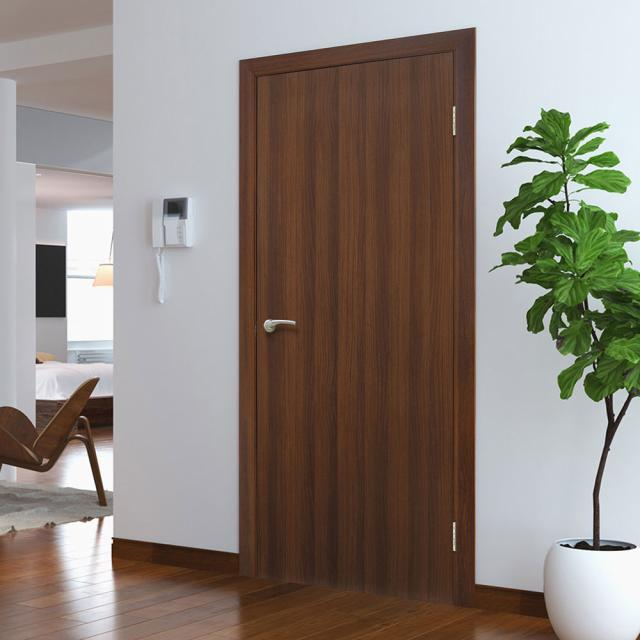close: (247, 68, 470, 592)
